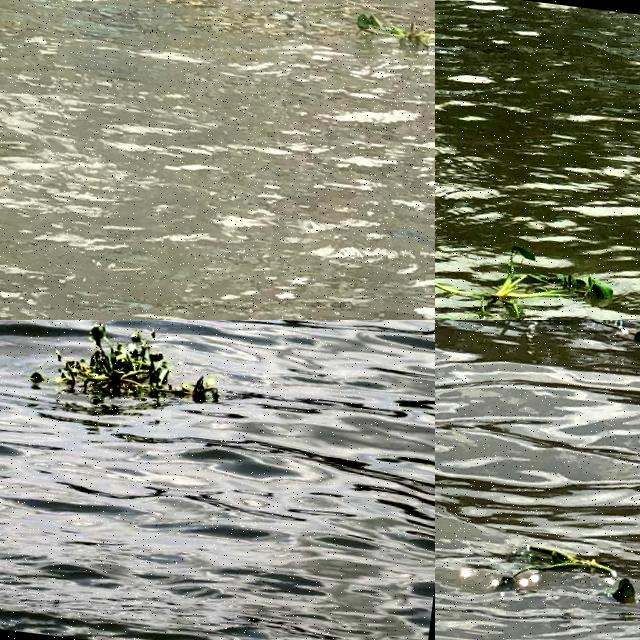water-hyacinth: (21, 321, 223, 409), (436, 235, 633, 321), (495, 531, 640, 615), (351, 1, 436, 57)
